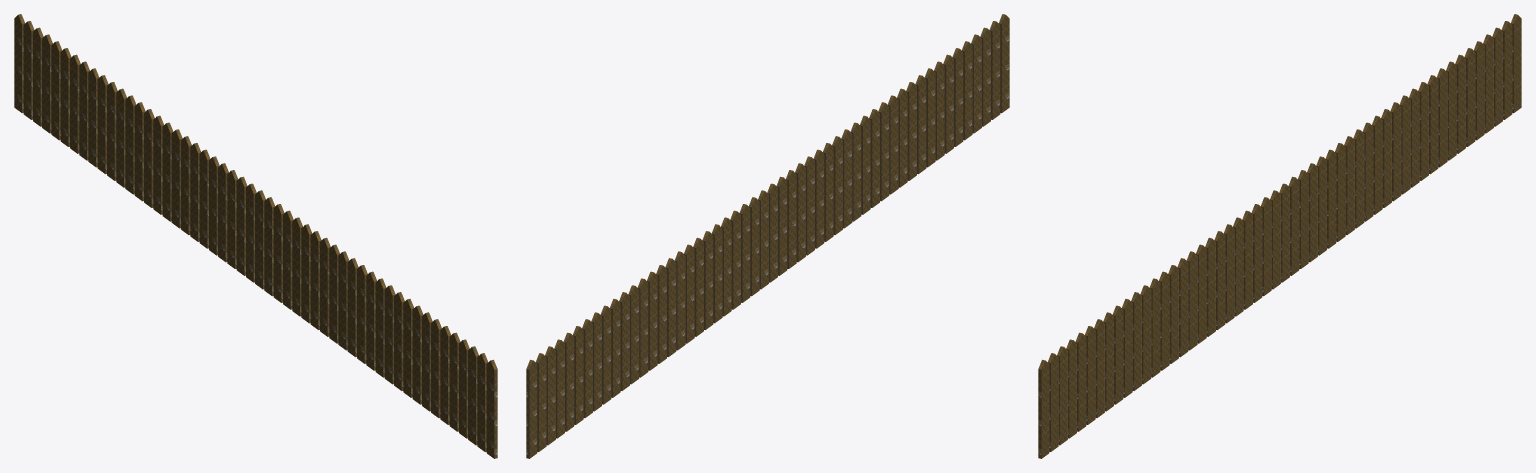
The model's file is fance 3.fbx.
3 renders of one model, left to right at view 1: azimuth 30°, elevation 25°; view 2: azimuth 150°, elevation 25°; view 3: azimuth 330°, elevation 25°, orthographic.
Visible parts, largest first — view 1: fance 3; view 2: fance 3; view 3: fance 3.
Boxes of the visible parts, x1=… form: fance 3: x1=14, y1=14, x2=497, y2=458; fance 3: x1=526, y1=14, x2=1009, y2=458; fance 3: x1=1038, y1=14, x2=1521, y2=458.
Bounding box in the file's own units: 5.81 × 162 × 1478.
Materials: 1 (1 with a texture image).
